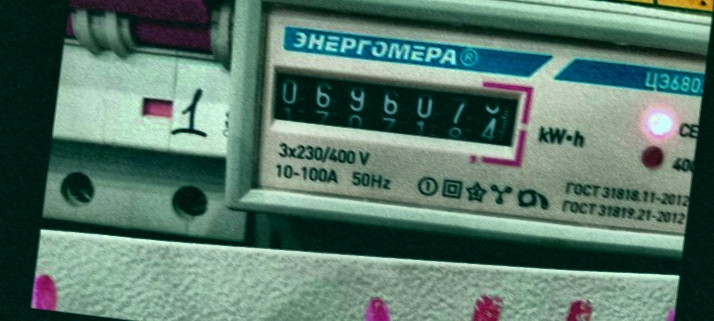0: (413, 89, 435, 121), (279, 76, 299, 106)
4: (478, 112, 498, 143)
6: (380, 86, 401, 116), (313, 79, 333, 109)
7: (447, 94, 469, 127)
9: (346, 83, 367, 113)
screen: (253, 49, 538, 167)
